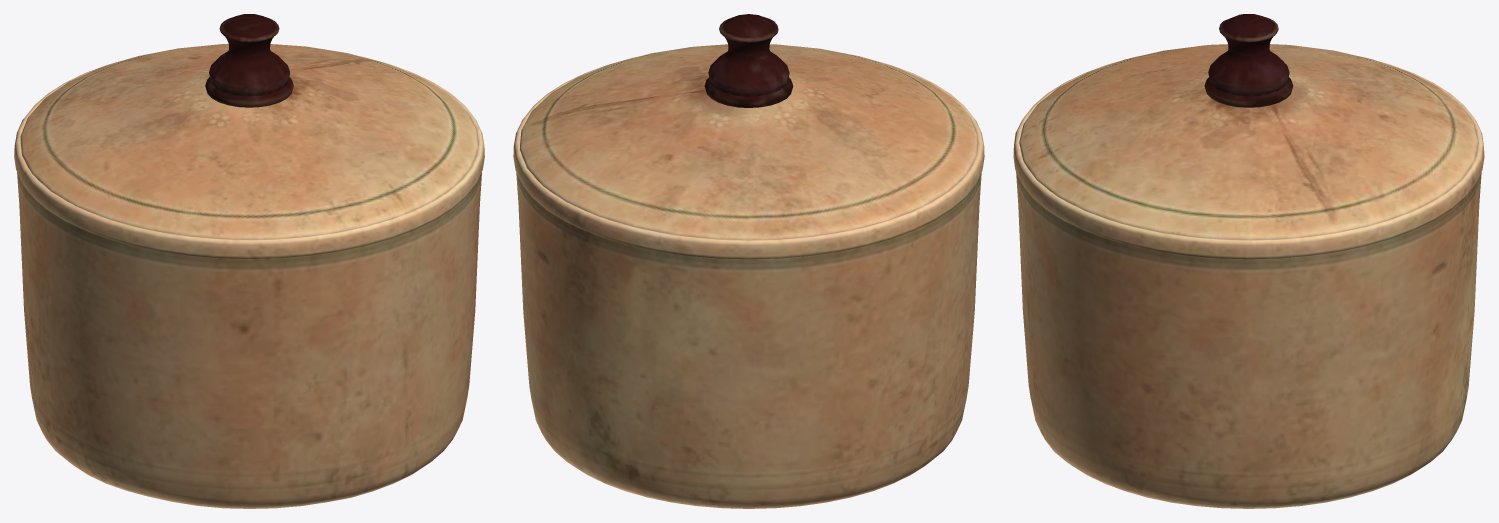
Rendered from pot.glb.
3 views of the same model, side by side, from view 1: azimuth 30°, elevation 25°; view 2: azimuth 150°, elevation 25°; view 3: azimuth 270°, elevation 25° (orthographic).
Visible parts, largest first — view 1: brass_pot_01; view 2: brass_pot_01; view 3: brass_pot_01.
Part boxes in pixels (box(x1,y1,x2,y2)): brass_pot_01: box(14, 14, 484, 508); brass_pot_01: box(513, 14, 984, 508); brass_pot_01: box(1013, 14, 1484, 508).
Bounding box in the file's own units: 0.3019 × 0.2909 × 0.3017.
1 material, 1 textured.
